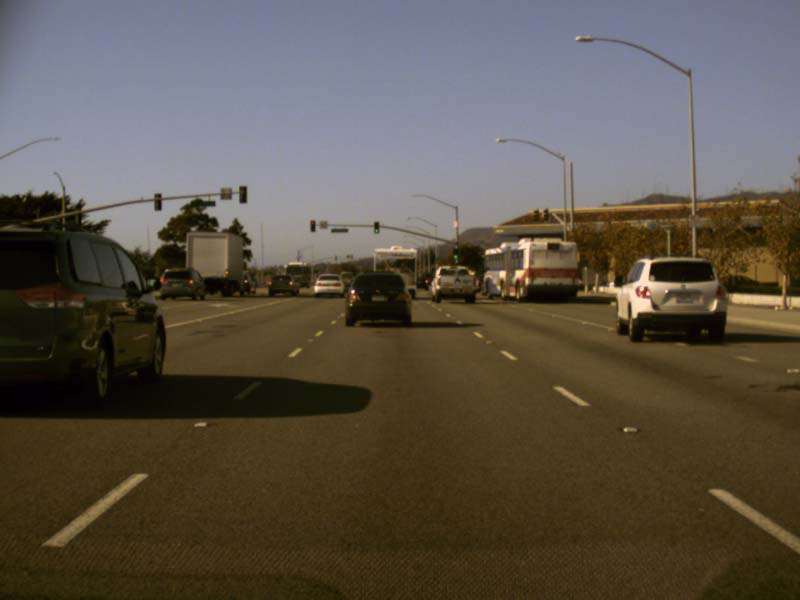Green: (373, 221, 379, 233), (452, 249, 457, 259)
Red: (310, 219, 315, 232)
